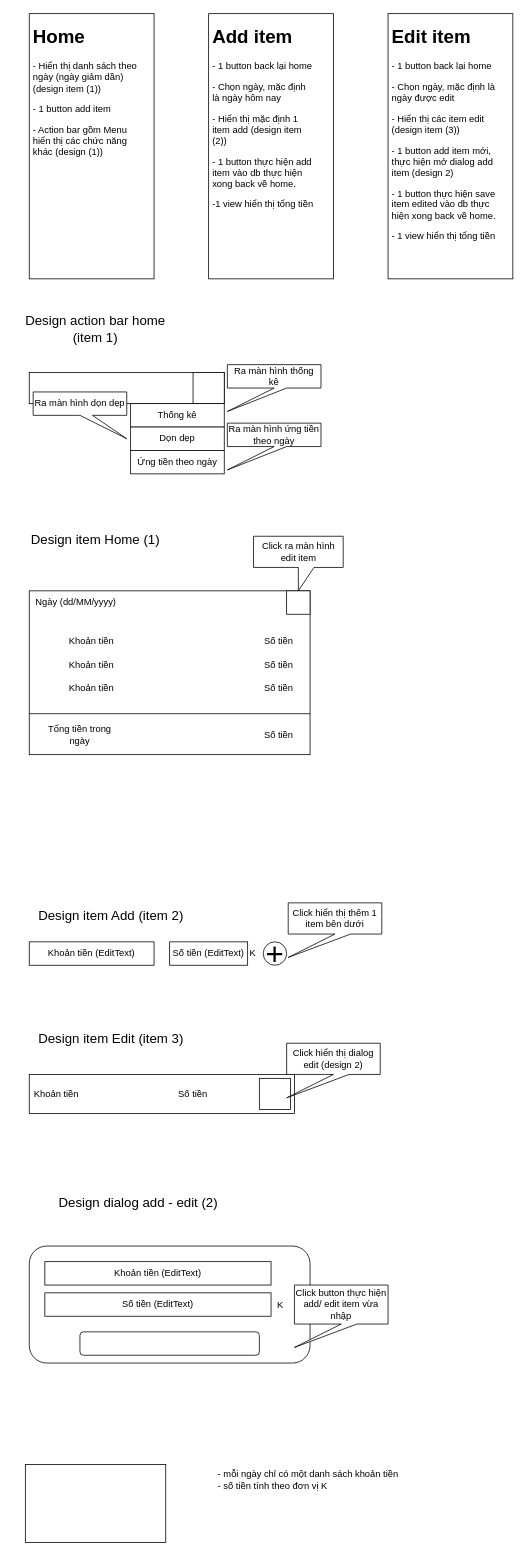
This 527x1556 diagram has some shape labels left out. The shapes that lost their labels are listed below. From the top down, each one's centre as x and y in pixels, then its label:
(208,388): Menu icon
(298,602): Edit icon
(275,1094): Icon edit
(169,1343): Button Add / Edit
(95,1503): Khoản tiền PK id ngày (dd/MM/yyyy) (Unique) khoản tiền số tiền
